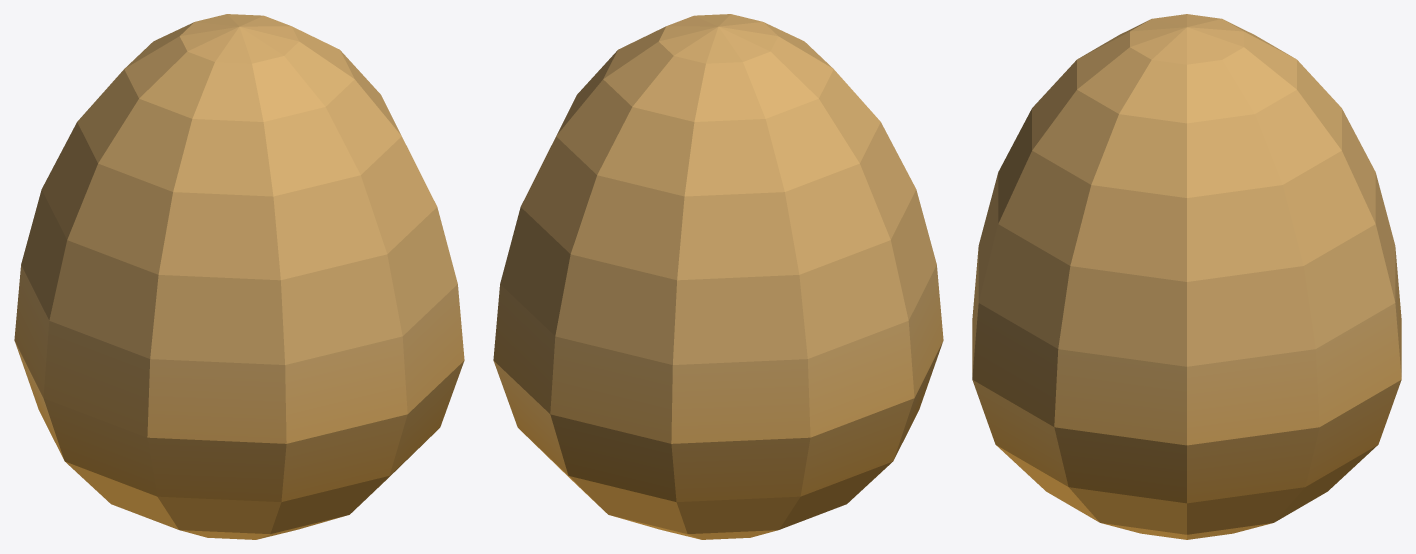
The model's file is Pickup_Egg_Mesh.fbx.
3 views of the same model, side by side, from view 1: azimuth 30°, elevation 25°; view 2: azimuth 150°, elevation 25°; view 3: azimuth 270°, elevation 25° (orthographic).
Visible parts, largest first — view 1: Pickup_Egg_Mesh; view 2: Pickup_Egg_Mesh; view 3: Pickup_Egg_Mesh.
Part boxes in pixels (x1,y1,x2,y2): Pickup_Egg_Mesh: (14,14,464,539); Pickup_Egg_Mesh: (493,14,943,539); Pickup_Egg_Mesh: (972,14,1401,539).
Bounding box in the file's own units: 1.98 × 2.38 × 1.88.
